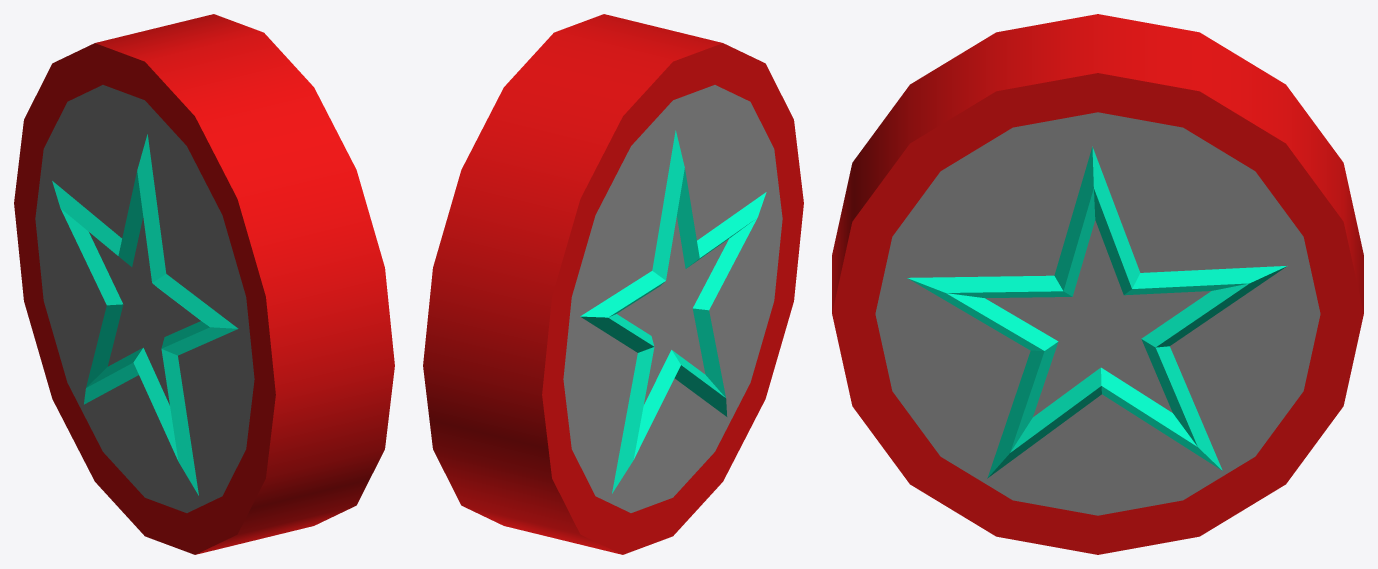
The model's file is BuildingGasStationAdvertising.fbx.
The picture shows the model from 3 angles, left to right: view 1: azimuth 30°, elevation 25°; view 2: azimuth 150°, elevation 25°; view 3: azimuth 270°, elevation 25°; orthographic projection.
Parts seen in each view (by area): view 1: BuildingGasStationAdvertising; view 2: BuildingGasStationAdvertising; view 3: BuildingGasStationAdvertising.
Boxes of the visible parts, x1,y1,x2,y2 form: BuildingGasStationAdvertising: [14, 14, 394, 554]; BuildingGasStationAdvertising: [423, 14, 803, 554]; BuildingGasStationAdvertising: [832, 14, 1363, 554].
Bounding box in the file's own units: 0.9476 × 2.94 × 2.94.
